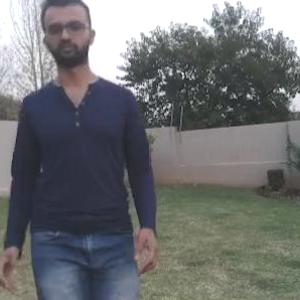follow: (3, 0, 159, 299)
